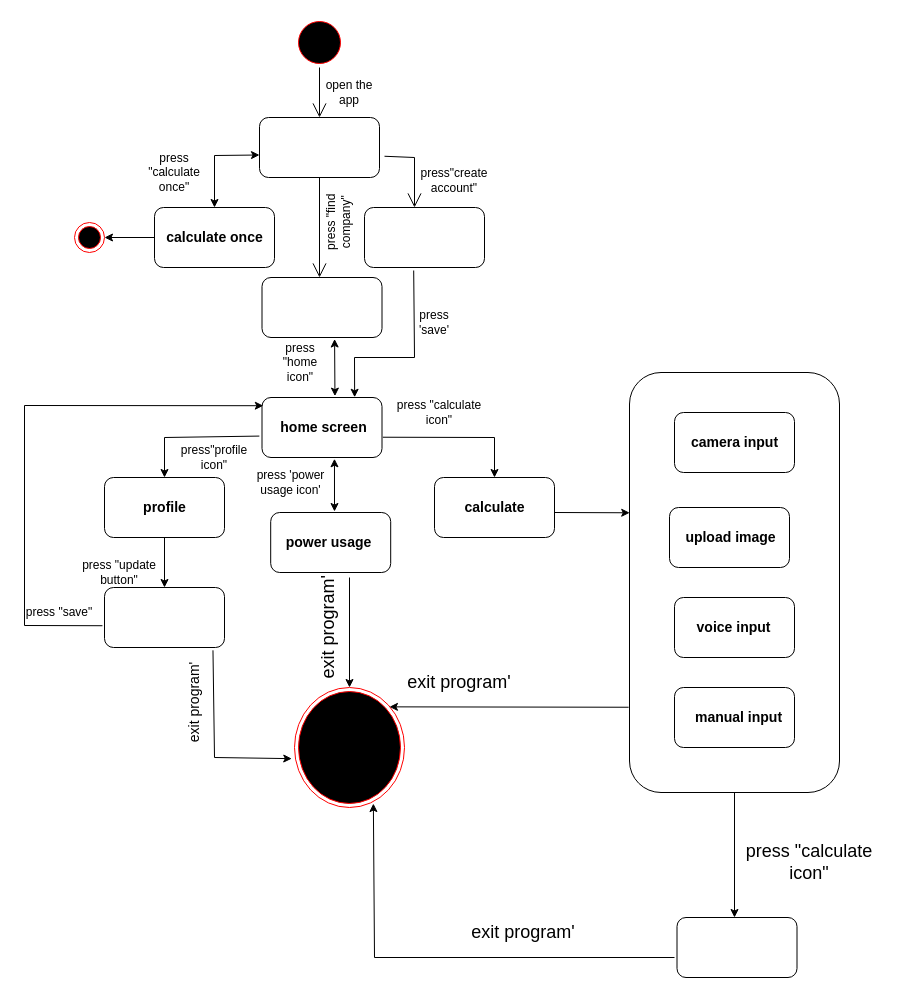
The diagram is 912 pixels wide and 995 high, and some of its shapes have lost their labels. Here are the shapes that lost their labels. From the top down, the centre of each, then its label:
At [319,147]: "Welcome screen".
At [424,237]: "Create account".
At [321,307]: "find company".
At [164,617]: "update".
At [736,947]: "price and statistics".
